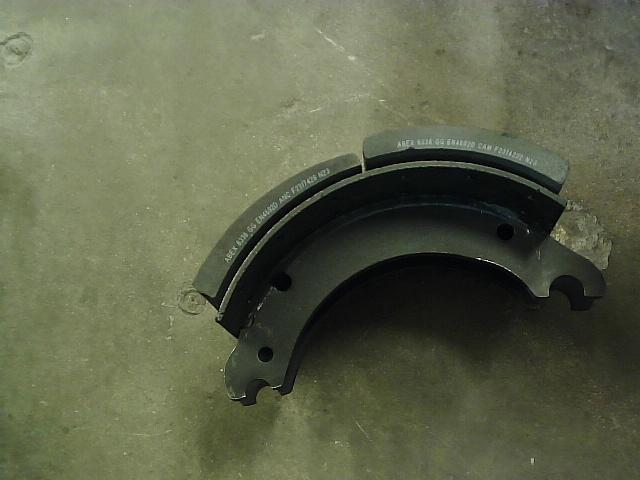brake-shoes: (190, 123, 607, 405)
